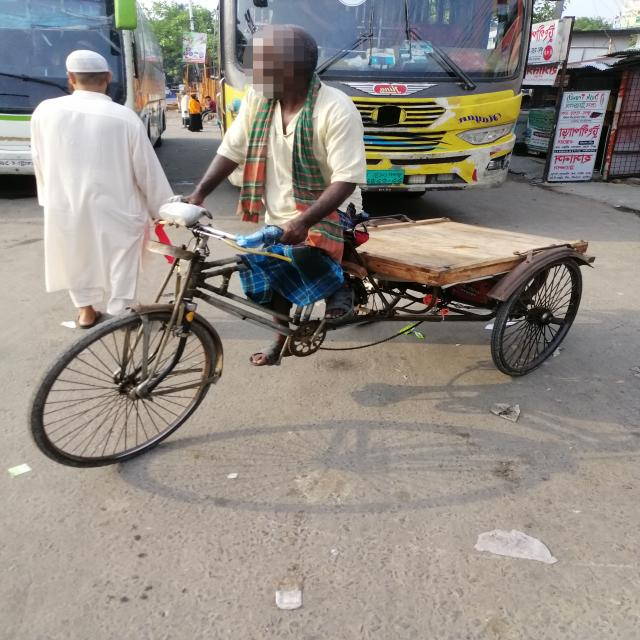Van: (24, 215, 601, 483)
